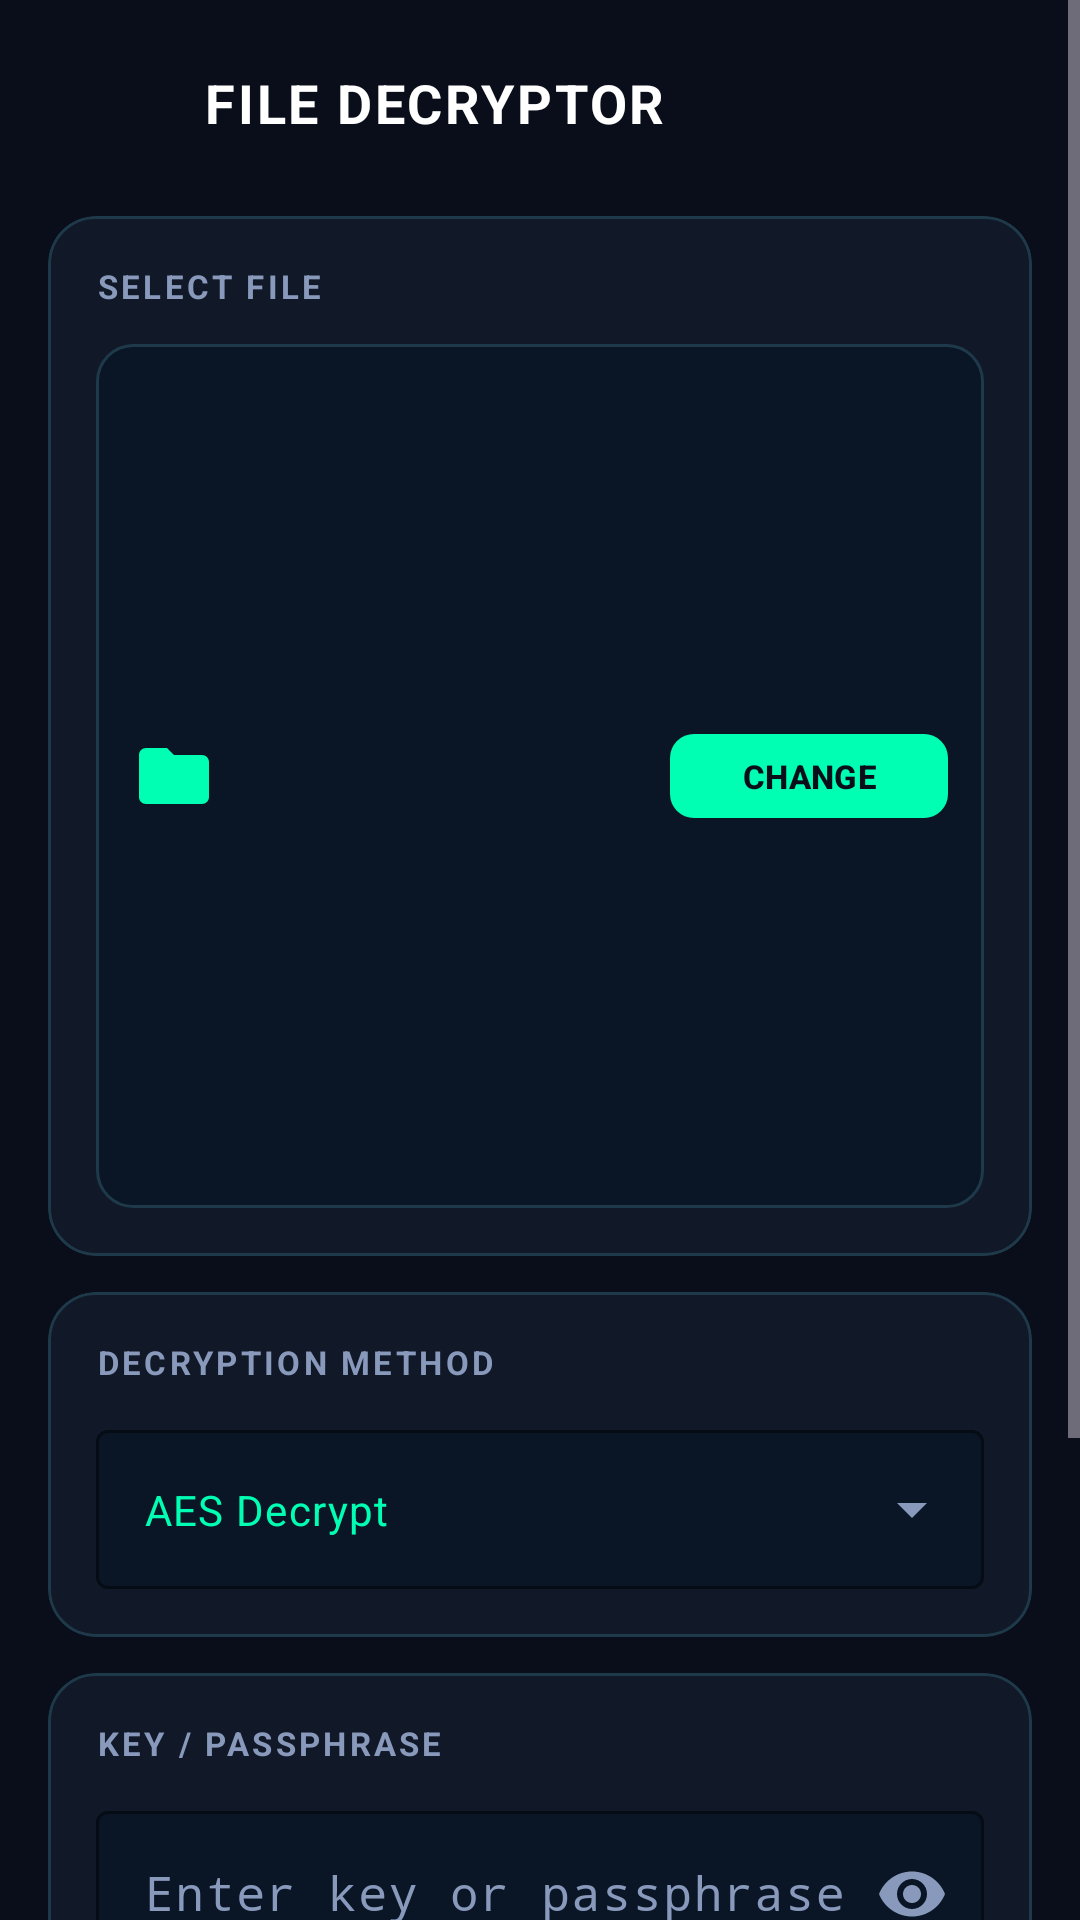

Point at icon controls on the screen. Image size 1080x1920, points as point (x, y).
files: point (174, 776)
